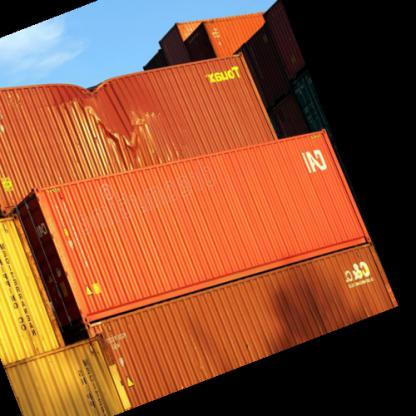Damage: (84, 67, 155, 159)
